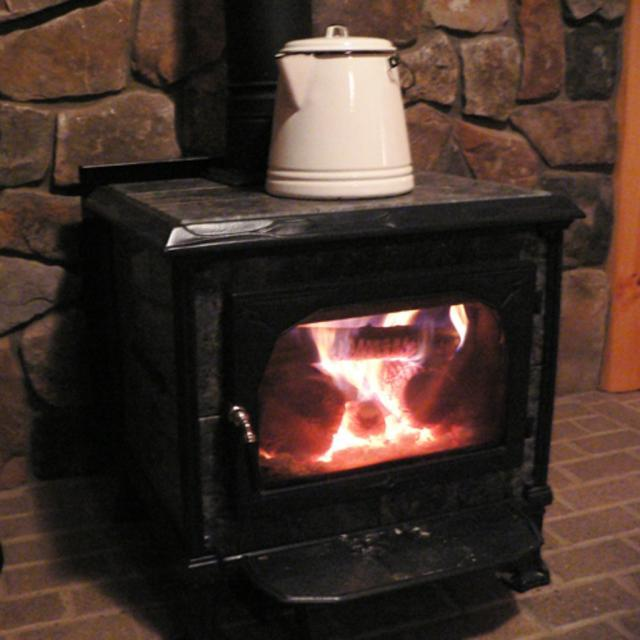Fire: (298, 304, 471, 462)
